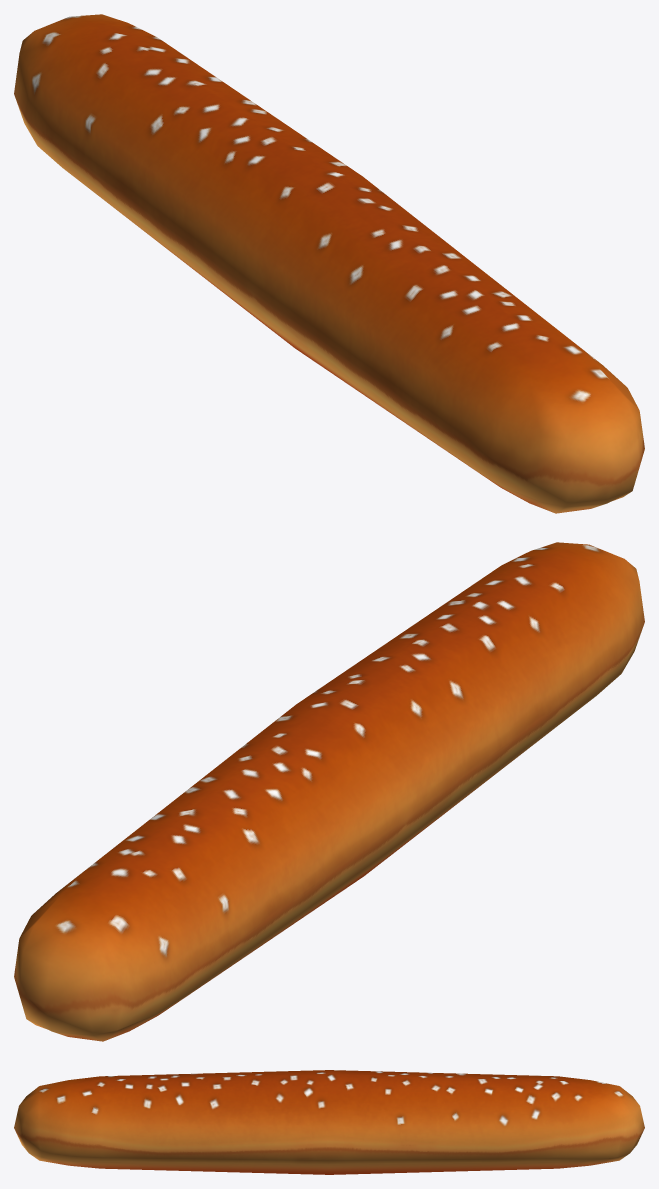
Rendered from Breadstick_01.fbx.
3 views of the same model, one above another, from view 1: azimuth 30°, elevation 25°; view 2: azimuth 150°, elevation 25°; view 3: azimuth 270°, elevation 25° (orthographic). The views are drawn at different scales.
Parts seen in each view (by area): view 1: Breadstick_01; view 2: Breadstick_01; view 3: Breadstick_01.
Boxes of the visible parts, left/top/right/bottom form: Breadstick_01: left=14, top=14, right=644, bottom=513; Breadstick_01: left=14, top=542, right=644, bottom=1041; Breadstick_01: left=14, top=1070, right=644, bottom=1174.
Size of the model in its own units: 11.96 by 11.99 by 73.27.
